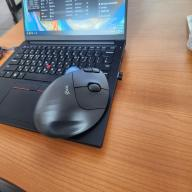mouse: (33, 65, 109, 139)
